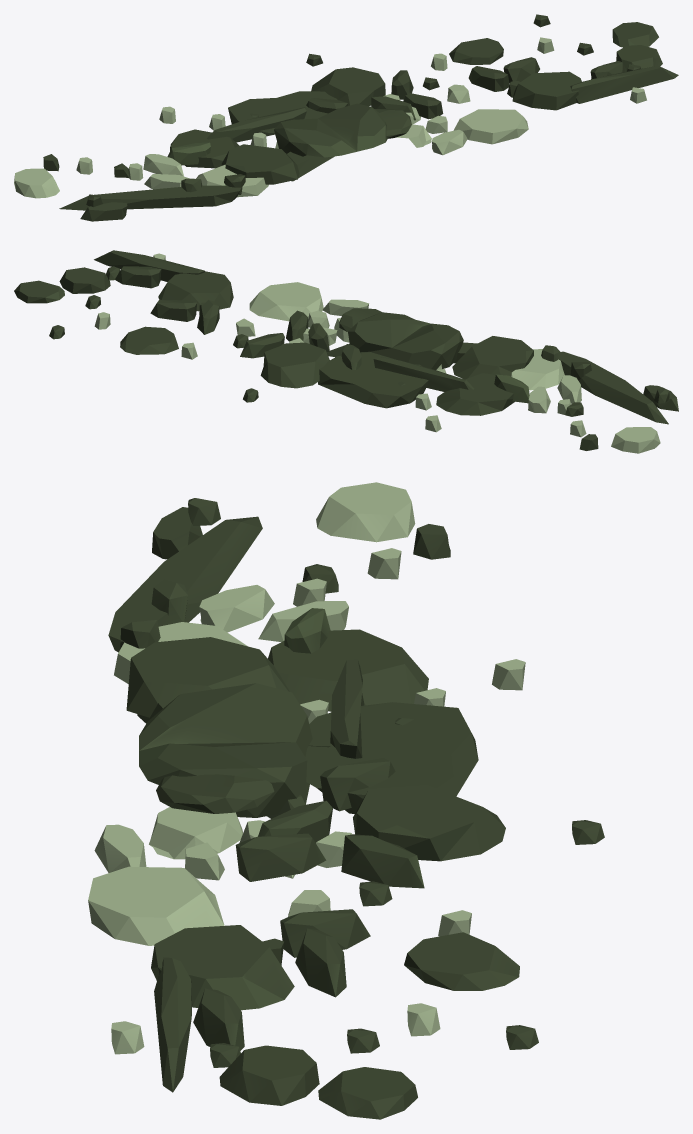
The model's file is EA_Swamp_StonesMud_04b.glb.
3 renders of one model, top to bottom at view 1: azimuth 30°, elevation 25°; view 2: azimuth 150°, elevation 25°; view 3: azimuth 270°, elevation 25°, orthographic. The views are drawn at different scales.
Parts seen in each view (by area): view 1: EA_Swamp_StonesMud_04b; view 2: EA_Swamp_StonesMud_04b; view 3: EA_Swamp_StonesMud_04b.
Part boxes in pixels (x1=…): EA_Swamp_StonesMud_04b: x1=14, y1=14, x2=678, y2=221; EA_Swamp_StonesMud_04b: x1=14, y1=250, x2=678, y2=453; EA_Swamp_StonesMud_04b: x1=88, y1=482, x2=604, y2=1119.
Bounding box in the file's own units: 9.11 × 0.3577 × 3.19.
1 material, 1 textured.
